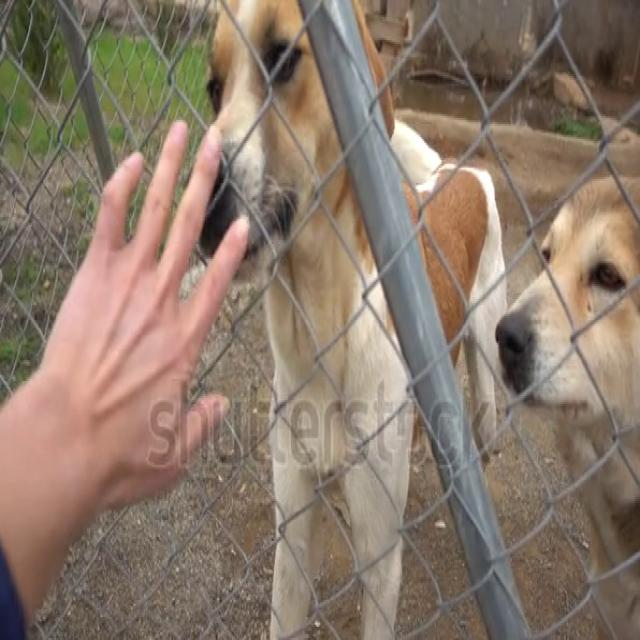normal_animals: (193, 0, 510, 638), (471, 132, 640, 537)
